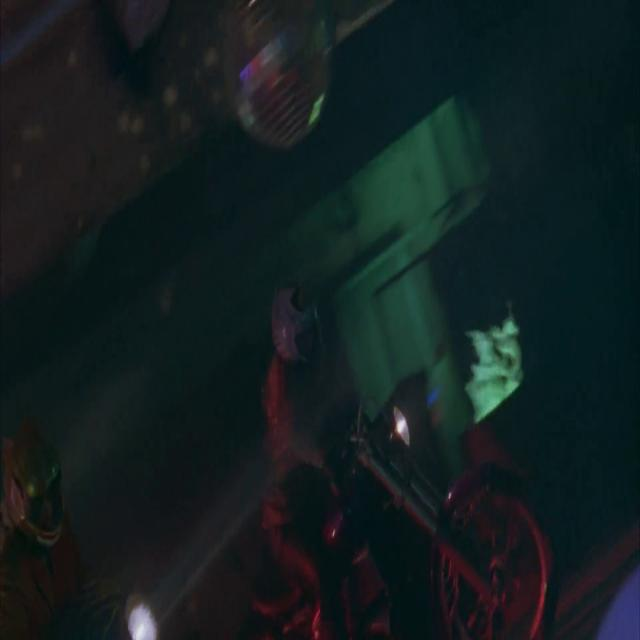Motorbike: (251, 399, 556, 640)
